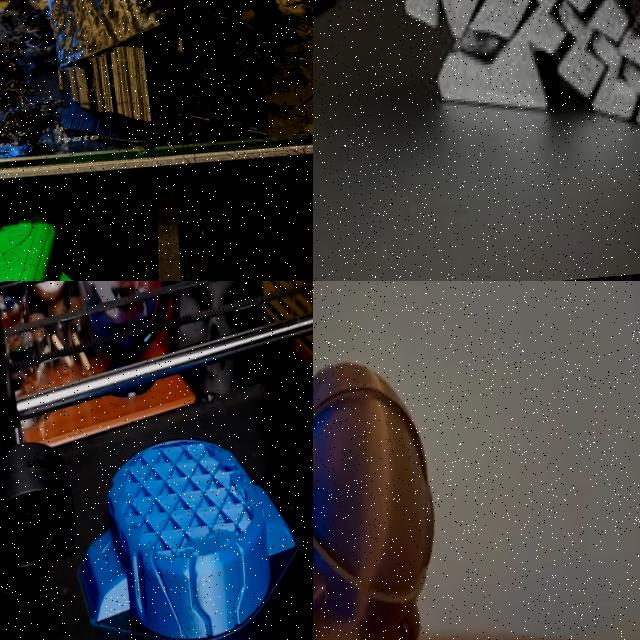spaghetti: (218, 0, 313, 130), (0, 3, 65, 164)
